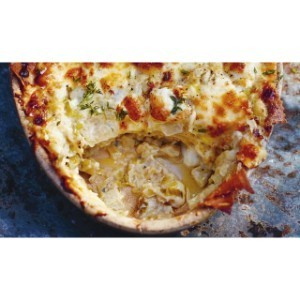cheese_brain food: (89, 89, 238, 167)
